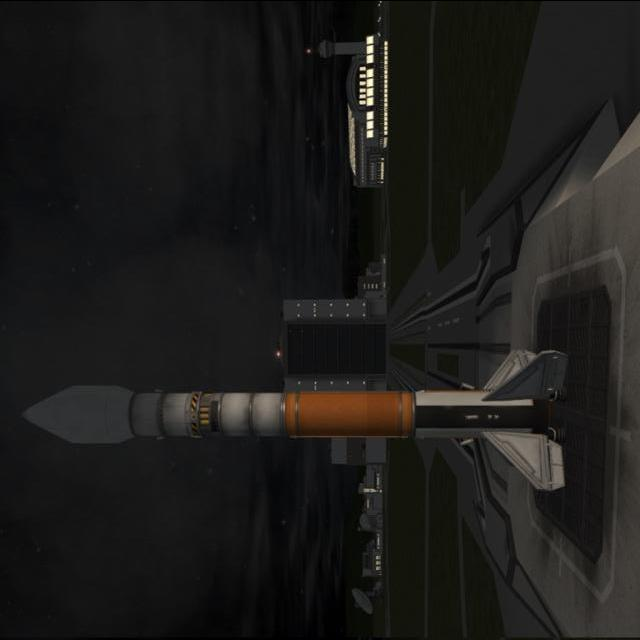missile: (17, 346, 584, 497)
